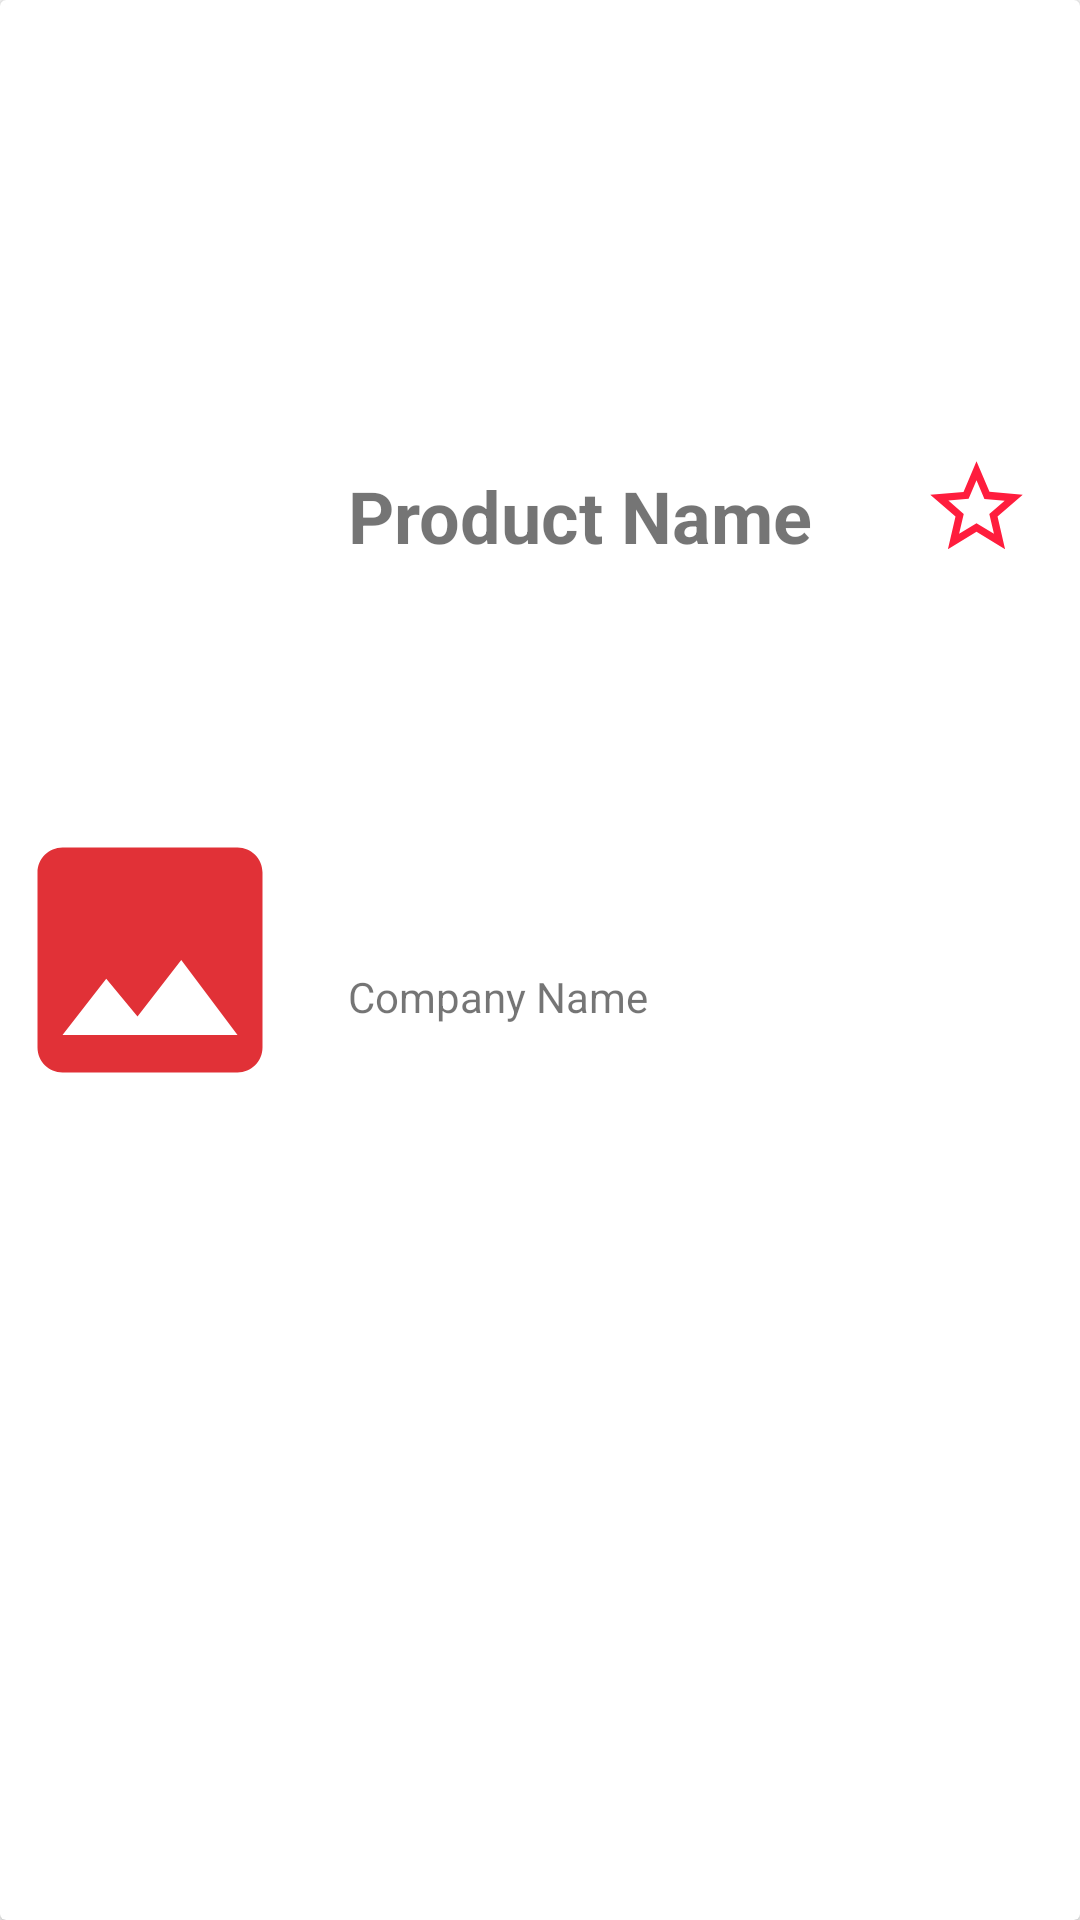

Icon bounding boxes for this 1080w x 1920h phone screenshot, format (left=x1, top=y1, right=x2, bottom=y2):
star empty: (left=930, top=461, right=1023, bottom=549)
